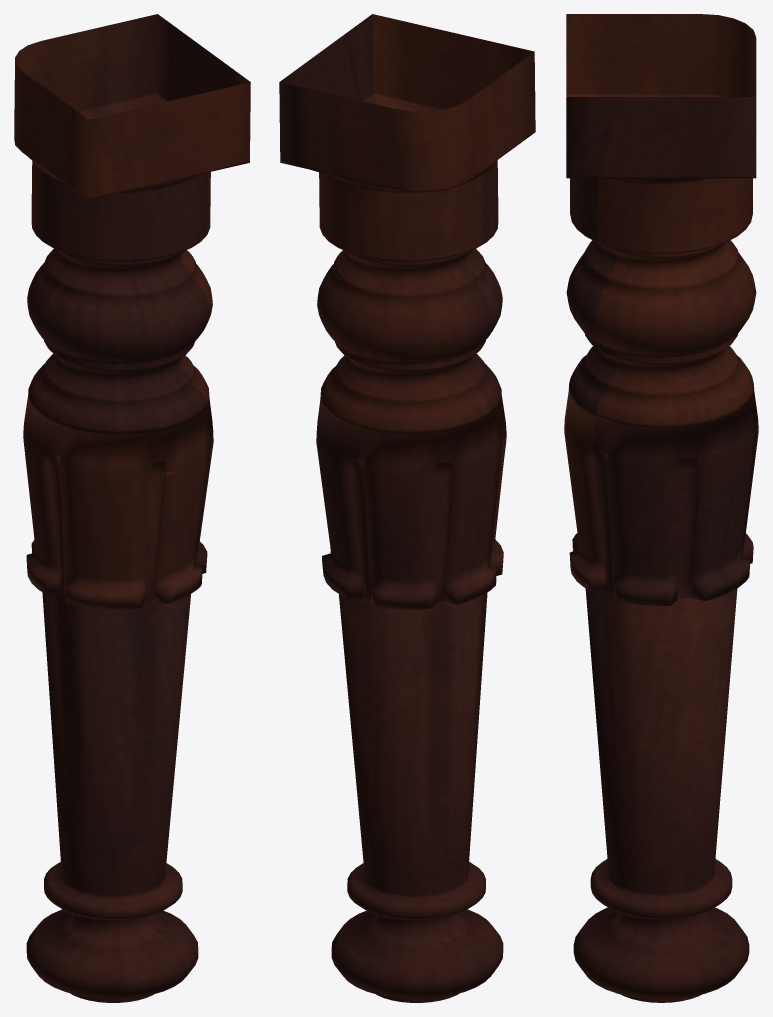
File: correct_leg.fbx
The picture shows the model from 3 angles, left to right: view 1: azimuth 30°, elevation 25°; view 2: azimuth 150°, elevation 25°; view 3: azimuth 270°, elevation 25°; orthographic projection.
Parts seen in each view (by area): view 1: legg; view 2: legg; view 3: legg.
Part boxes in pixels (box(x1,y1,x2,y2)): legg: box(14, 14, 250, 1002); legg: box(279, 14, 535, 1002); legg: box(564, 14, 758, 1002).
Size of the model in its own units: 82.27 by 427 by 80.76.
Materials: 1 (1 with a texture image).
